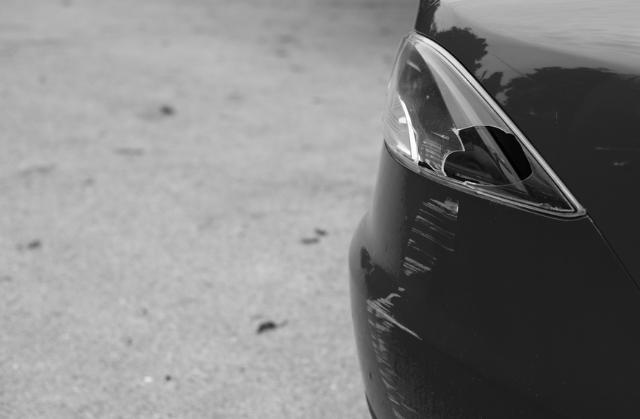Bumper: (348, 150, 540, 419)
Light: (367, 33, 591, 224)
